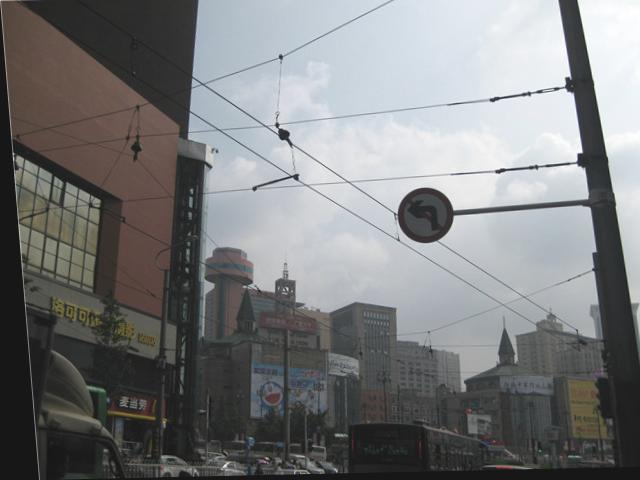not_turn_left: (390, 183, 452, 247)
